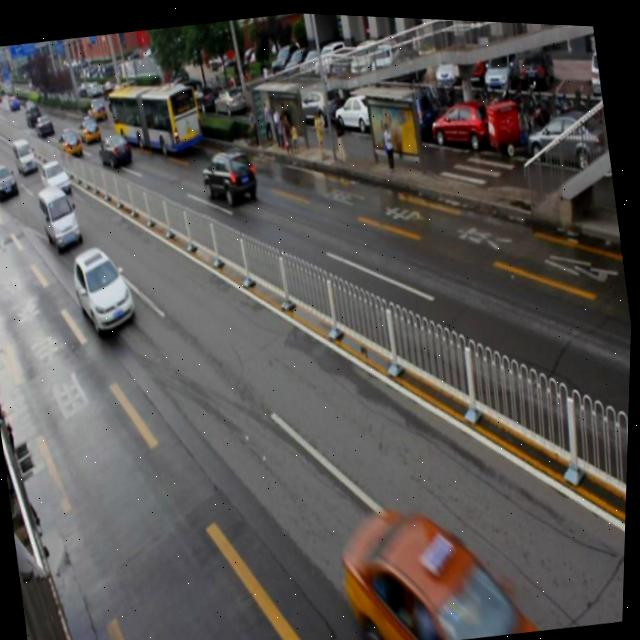car: (336, 486, 544, 640), (68, 242, 140, 337), (198, 143, 262, 208), (98, 132, 133, 170), (39, 156, 73, 195)
truck: (37, 181, 87, 253)
van: (106, 72, 207, 165)
